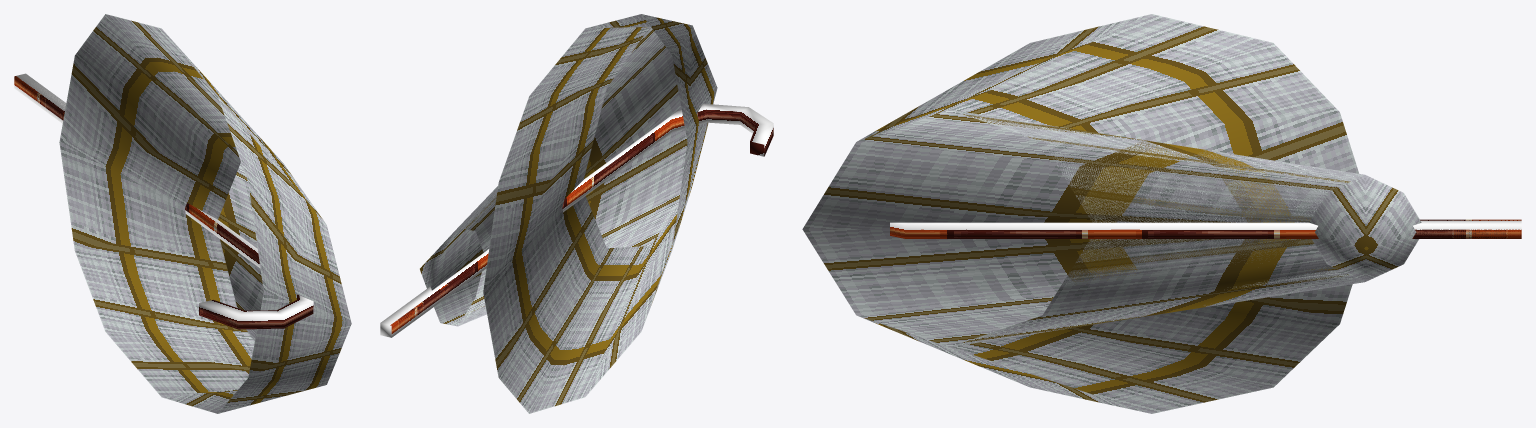
Rendered from 11_03_stick.gltf.
3 views of the same model, side by side, from view 1: azimuth 30°, elevation 25°; view 2: azimuth 150°, elevation 25°; view 3: azimuth 270°, elevation 25° (orthographic). The views are drawn at different scales.
Visible parts, largest first — view 1: 11_03_stick; view 2: 11_03_stick; view 3: 11_03_stick.
Boxes of the visible parts, left/top/right/bottom form: 11_03_stick: left=14, top=14, right=351, bottom=413; 11_03_stick: left=380, top=14, right=773, bottom=413; 11_03_stick: left=802, top=14, right=1521, bottom=413.
Bounding box in the file's own units: 0.2974 × 0.761 × 1.24.
2 materials, 2 textured.
